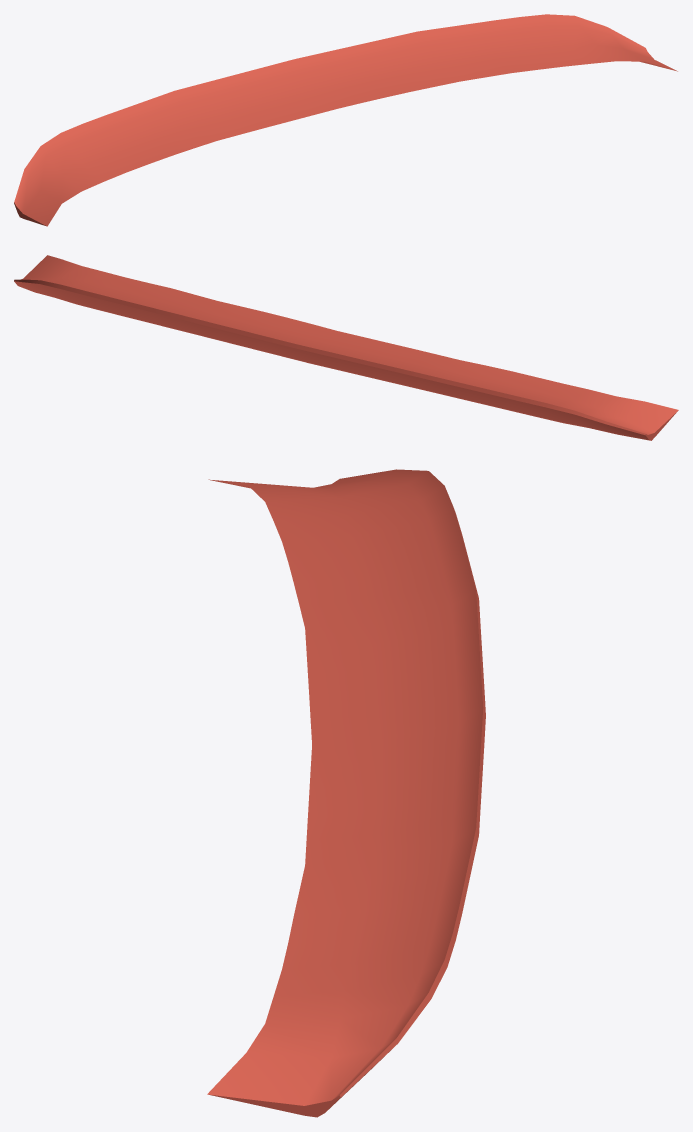
Rendered from wendtStrom_spoiler_sportMildRoof.glb.
3 renders of one model, top to bottom at view 1: azimuth 30°, elevation 25°; view 2: azimuth 150°, elevation 25°; view 3: azimuth 270°, elevation 25°, orthographic. The views are drawn at different scales.
Parts seen in each view (by area): view 1: spoiler_sportMildRoof; view 2: spoiler_sportMildRoof; view 3: spoiler_sportMildRoof.
Boxes of the visible parts, box(x1,y1,x2,y2) form: spoiler_sportMildRoof: box(14, 14, 677, 226); spoiler_sportMildRoof: box(14, 255, 678, 440); spoiler_sportMildRoof: box(207, 469, 485, 1117).
Size of the model in its own units: 1.04 by 0.0796 by 0.1989.
